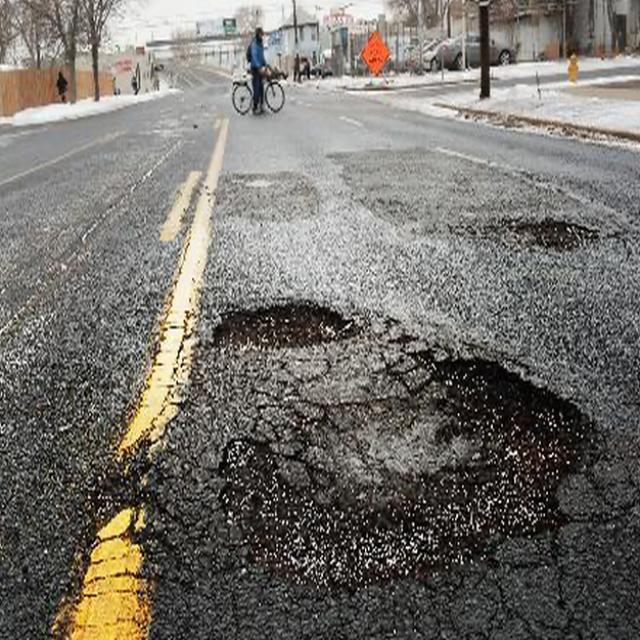Lubang: (237, 361, 600, 573), (209, 300, 364, 351), (514, 216, 593, 250)
